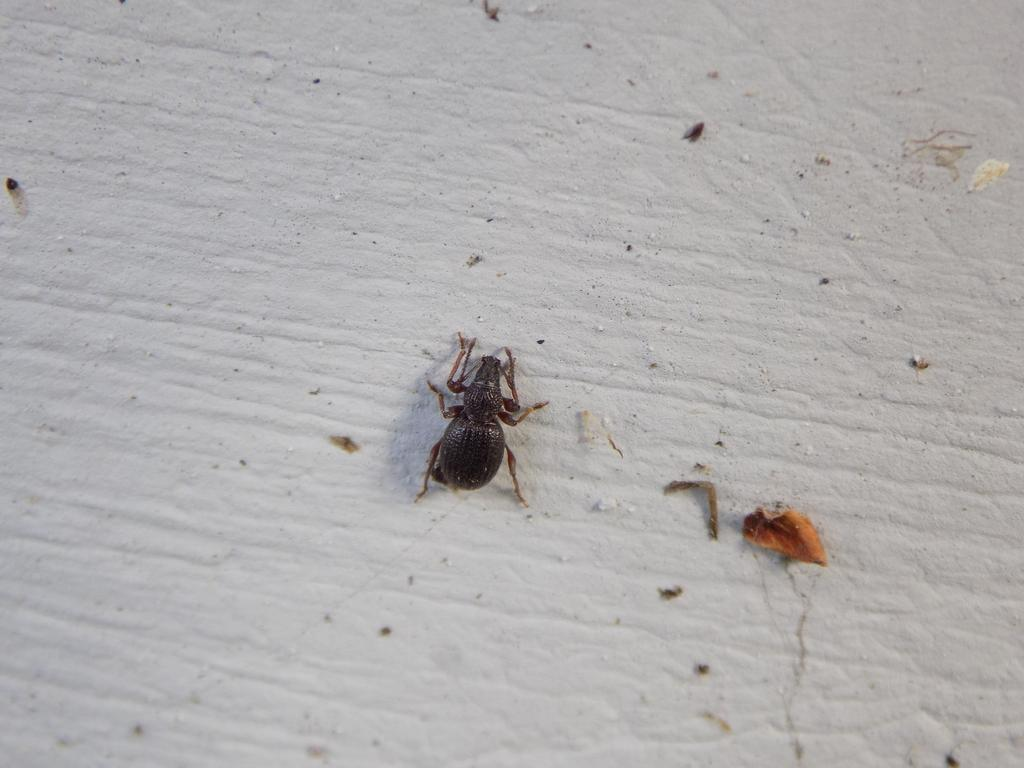weevils: (379, 298, 580, 554)
